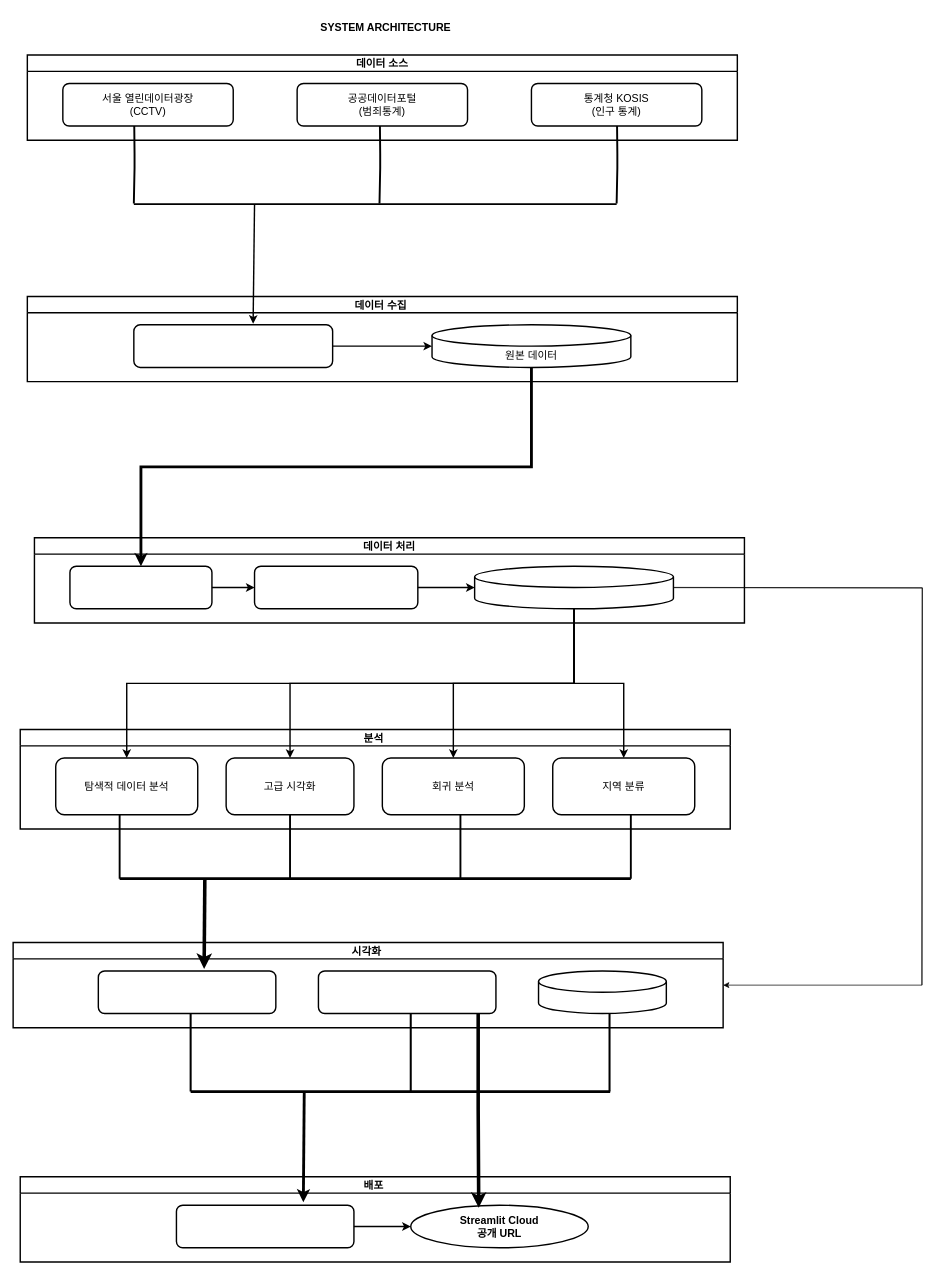
Some shapes in this 940 by 1274 pixel diagram are drawn without their labels. Here are the shapes that lost their labels. From the top down, the centre of each, then its label:
At (233,346): "API 호출 모듈".
At (140,587): "데이터 정제".
At (335,587): "데이터 통합".
At (574,587): "정제 데이터".
At (186,992): "분석 리포트".
At (406,992): "인터랙티브 대시보드".
At (602,992): "결과 파일".
At (264,1226): "GitHub Repository".
